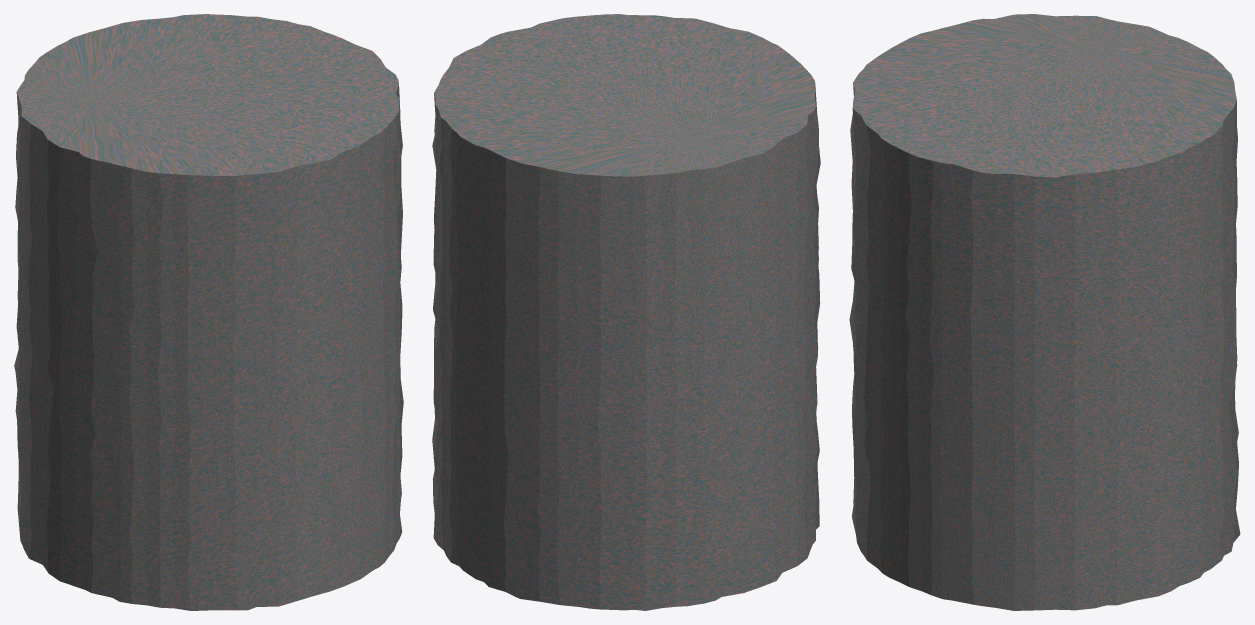
Rendered from barrel_36.dae.
3 views of the same model, side by side, from view 1: azimuth 30°, elevation 25°; view 2: azimuth 150°, elevation 25°; view 3: azimuth 270°, elevation 25° (orthographic).
Parts seen in each view (by area): view 1: Cylinder; view 2: Cylinder; view 3: Cylinder.
Part boxes in pixels (x1=…): Cylinder: x1=14, y1=14, x2=403, y2=610; Cylinder: x1=432, y1=14, x2=820, y2=610; Cylinder: x1=849, y1=14, x2=1240, y2=610.
Bounding box in the file's own units: 0.8102 × 0.8155 × 1.
Materials: 1 (1 with a texture image).
